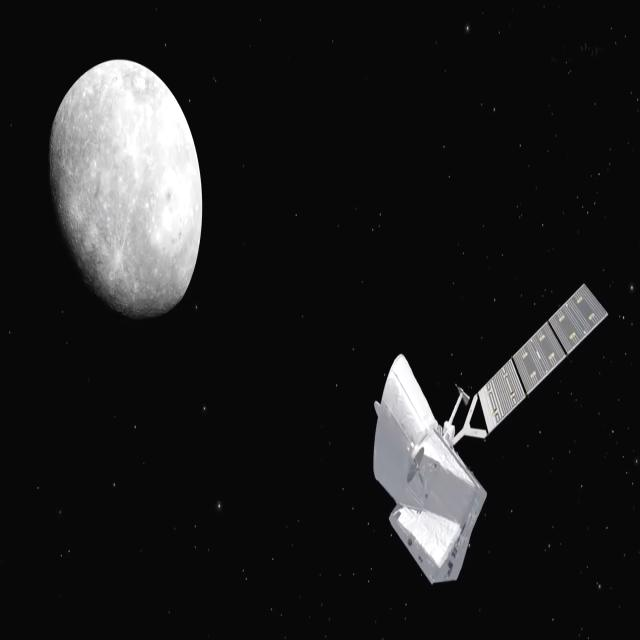medium_debris: (356, 214, 632, 628), (23, 14, 222, 386)
